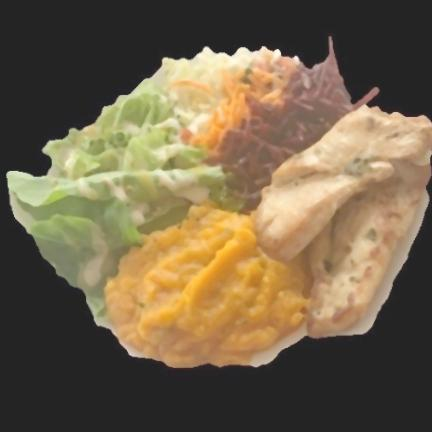beet: (207, 47, 357, 210)
carrot: (190, 51, 296, 153)
chicken: (256, 105, 432, 336)
salad: (7, 80, 223, 316)
